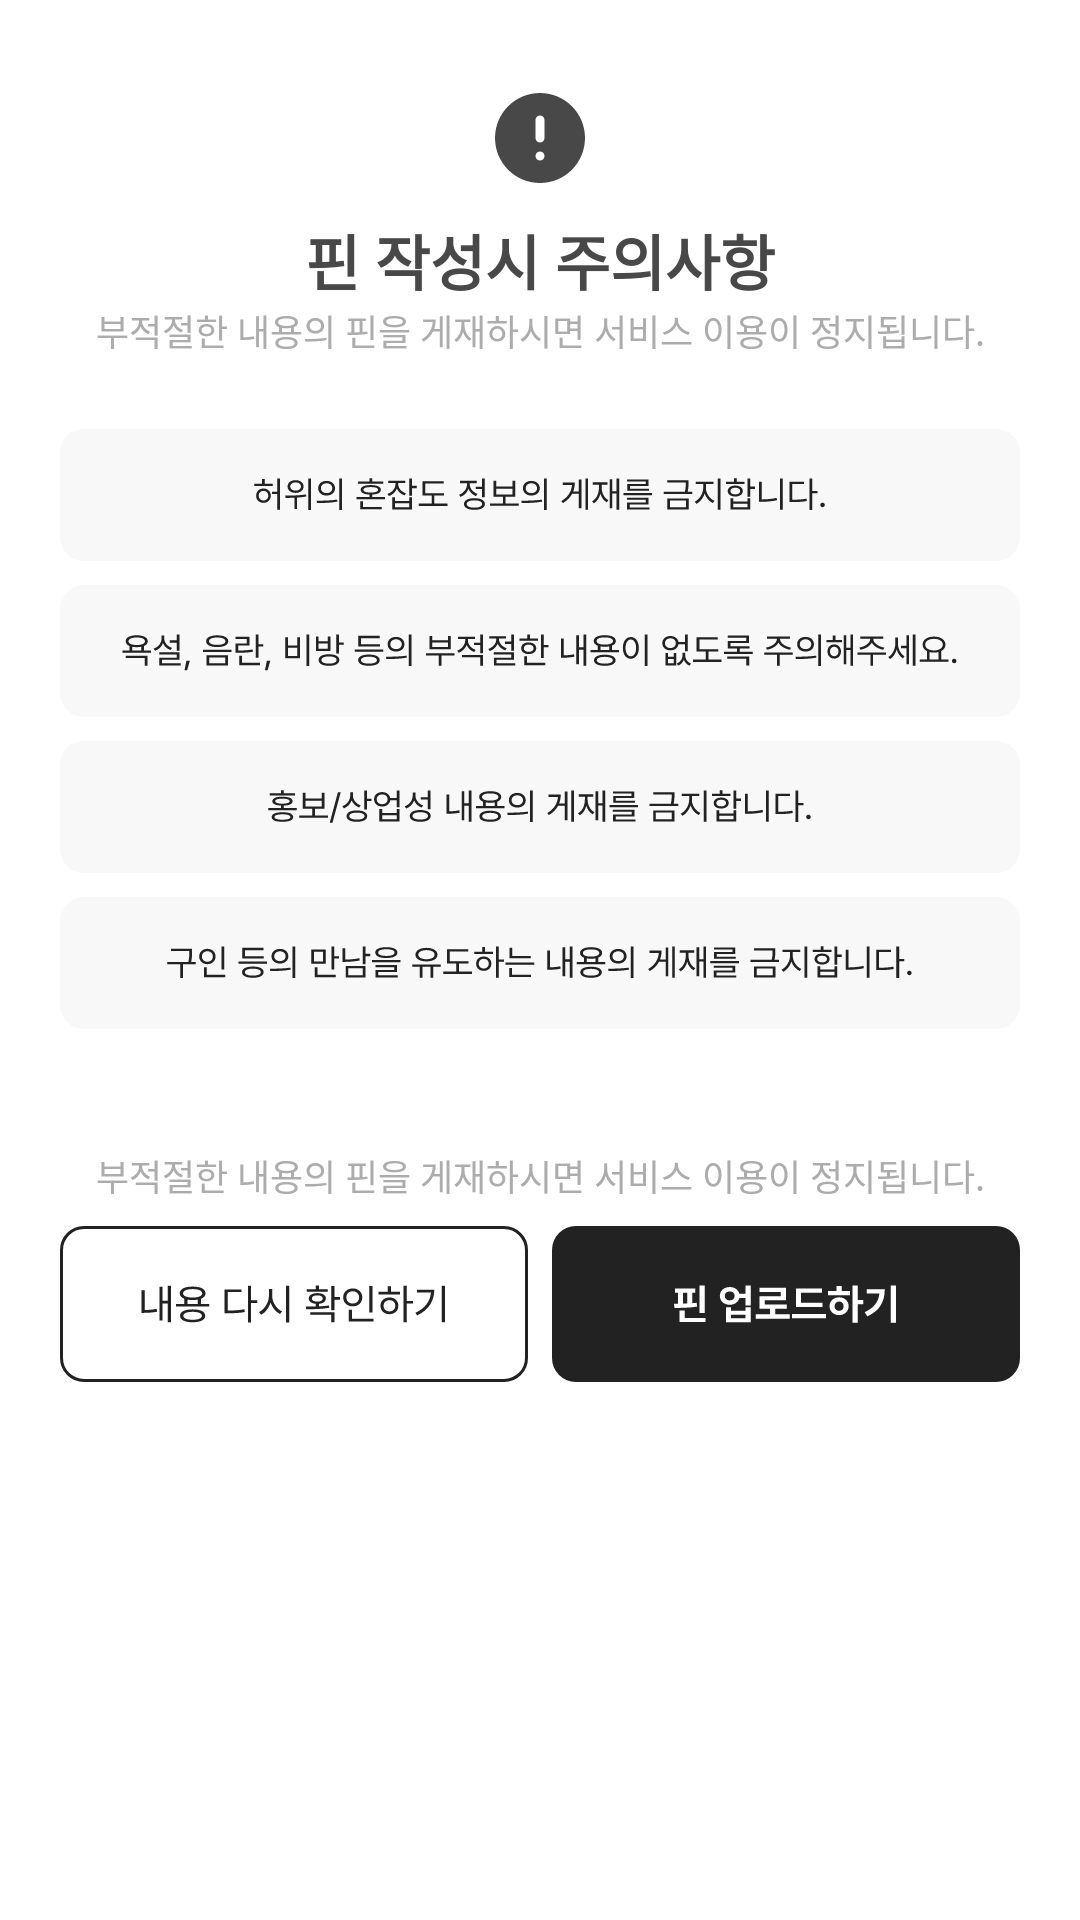

Icon click points for this 1080w x 1920h phone screenshot, format point (x, y):
report: point (540, 138)
